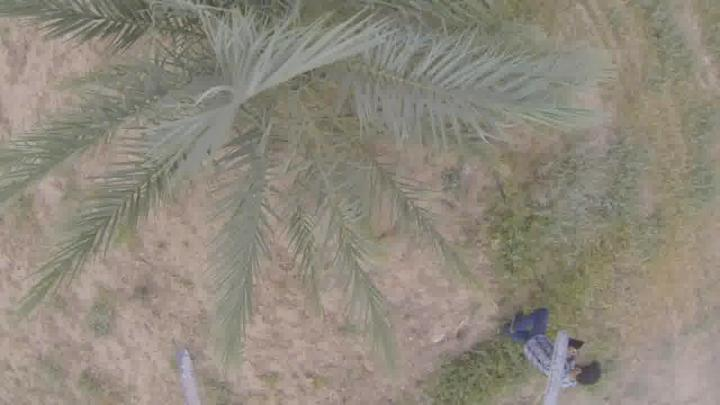Date-Palm-Crown: (96, 0, 420, 220)
